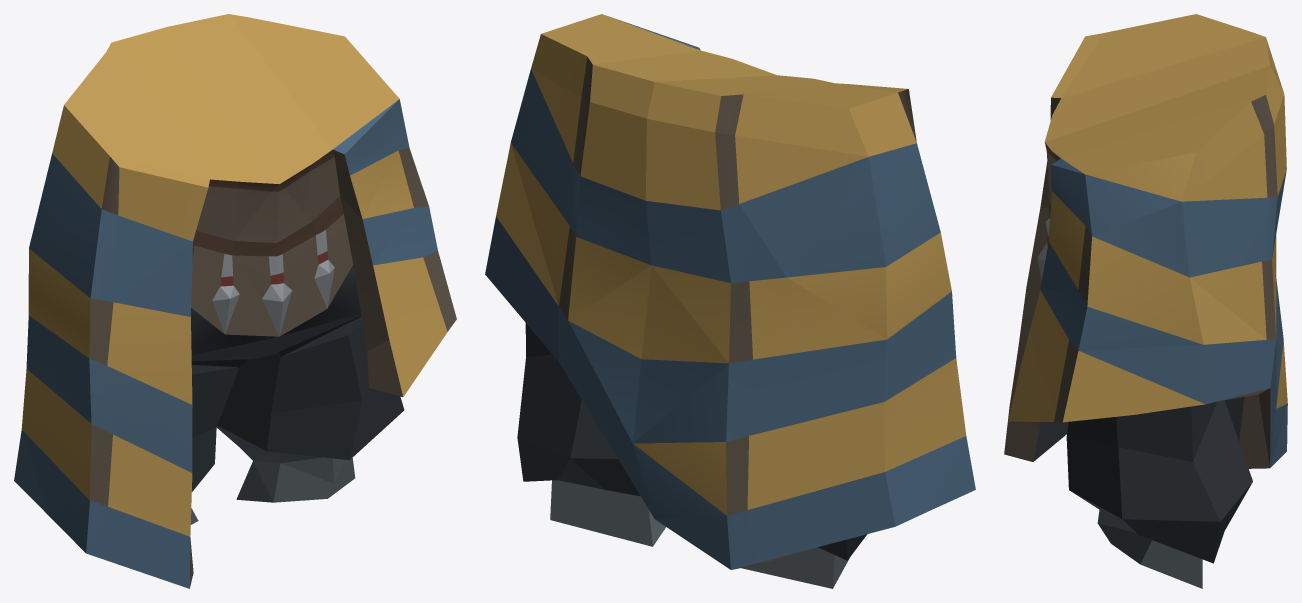
Rendered from Chr_Hips_Female_28_Static.fbx.
3 renders of one model, left to right at view 1: azimuth 30°, elevation 25°; view 2: azimuth 150°, elevation 25°; view 3: azimuth 270°, elevation 25°, orthographic. The views are drawn at different scales.
Parts seen in each view (by area): view 1: Chr_Hips_Female_28_Static; view 2: Chr_Hips_Female_28_Static; view 3: Chr_Hips_Female_28_Static.
Boxes of the visible parts, x1=… form: Chr_Hips_Female_28_Static: x1=14, y1=14, x2=456, y2=588; Chr_Hips_Female_28_Static: x1=485, y1=14, x2=975, y2=588; Chr_Hips_Female_28_Static: x1=1004, y1=14, x2=1287, y2=588.
Bounding box in the file's own units: 0.4973 × 0.5806 × 0.3237.
